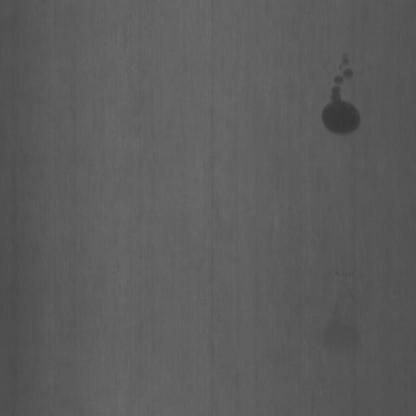oil_spot: (315, 47, 367, 141)
